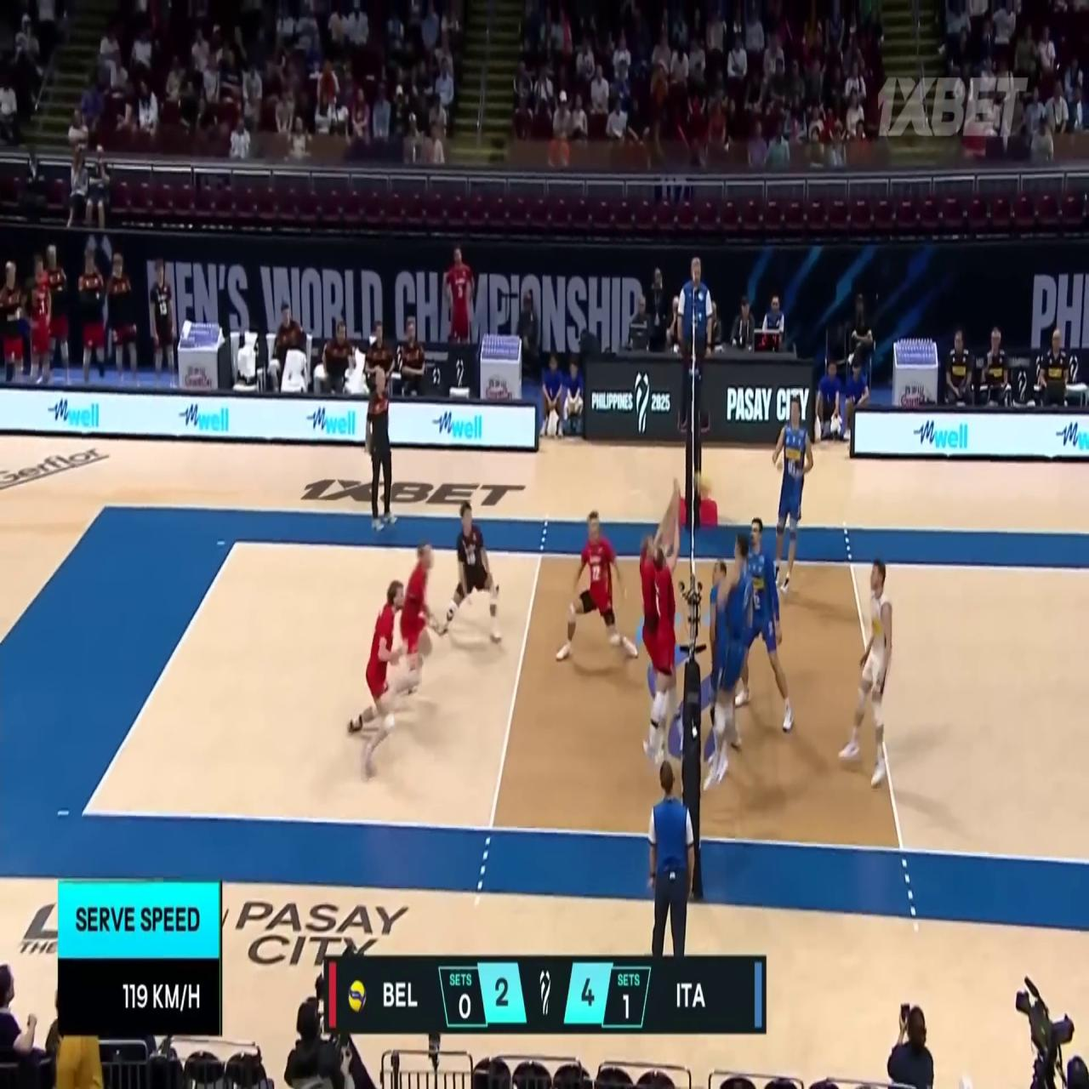ball: (695, 470, 713, 501)
